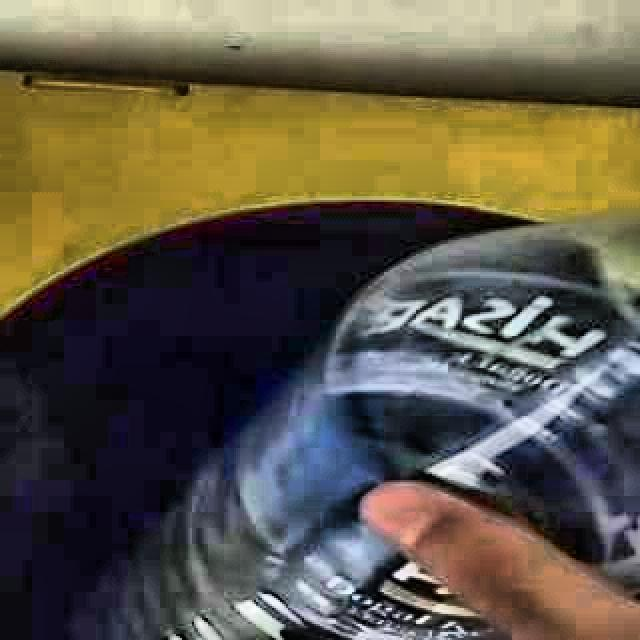plastic: (80, 216, 640, 640)
